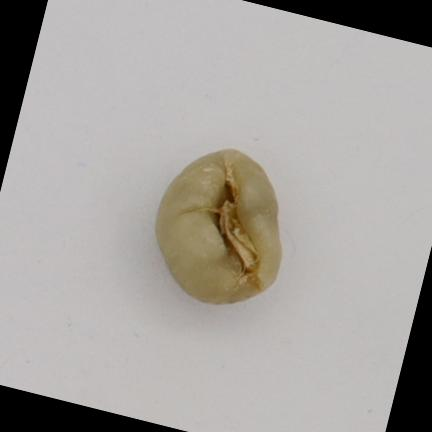immature: (155, 149, 281, 303)
